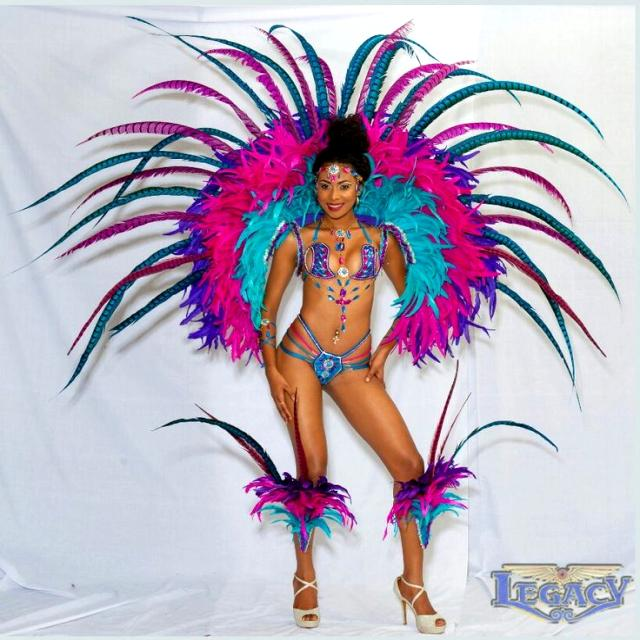Phasianus Colchicus: (409, 79, 612, 145), (84, 124, 231, 152)
